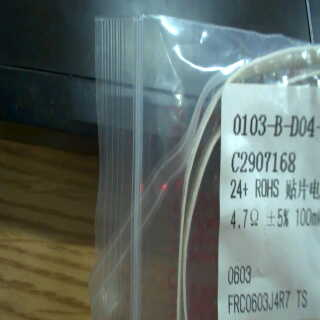4.7R: (228, 204, 263, 233)
